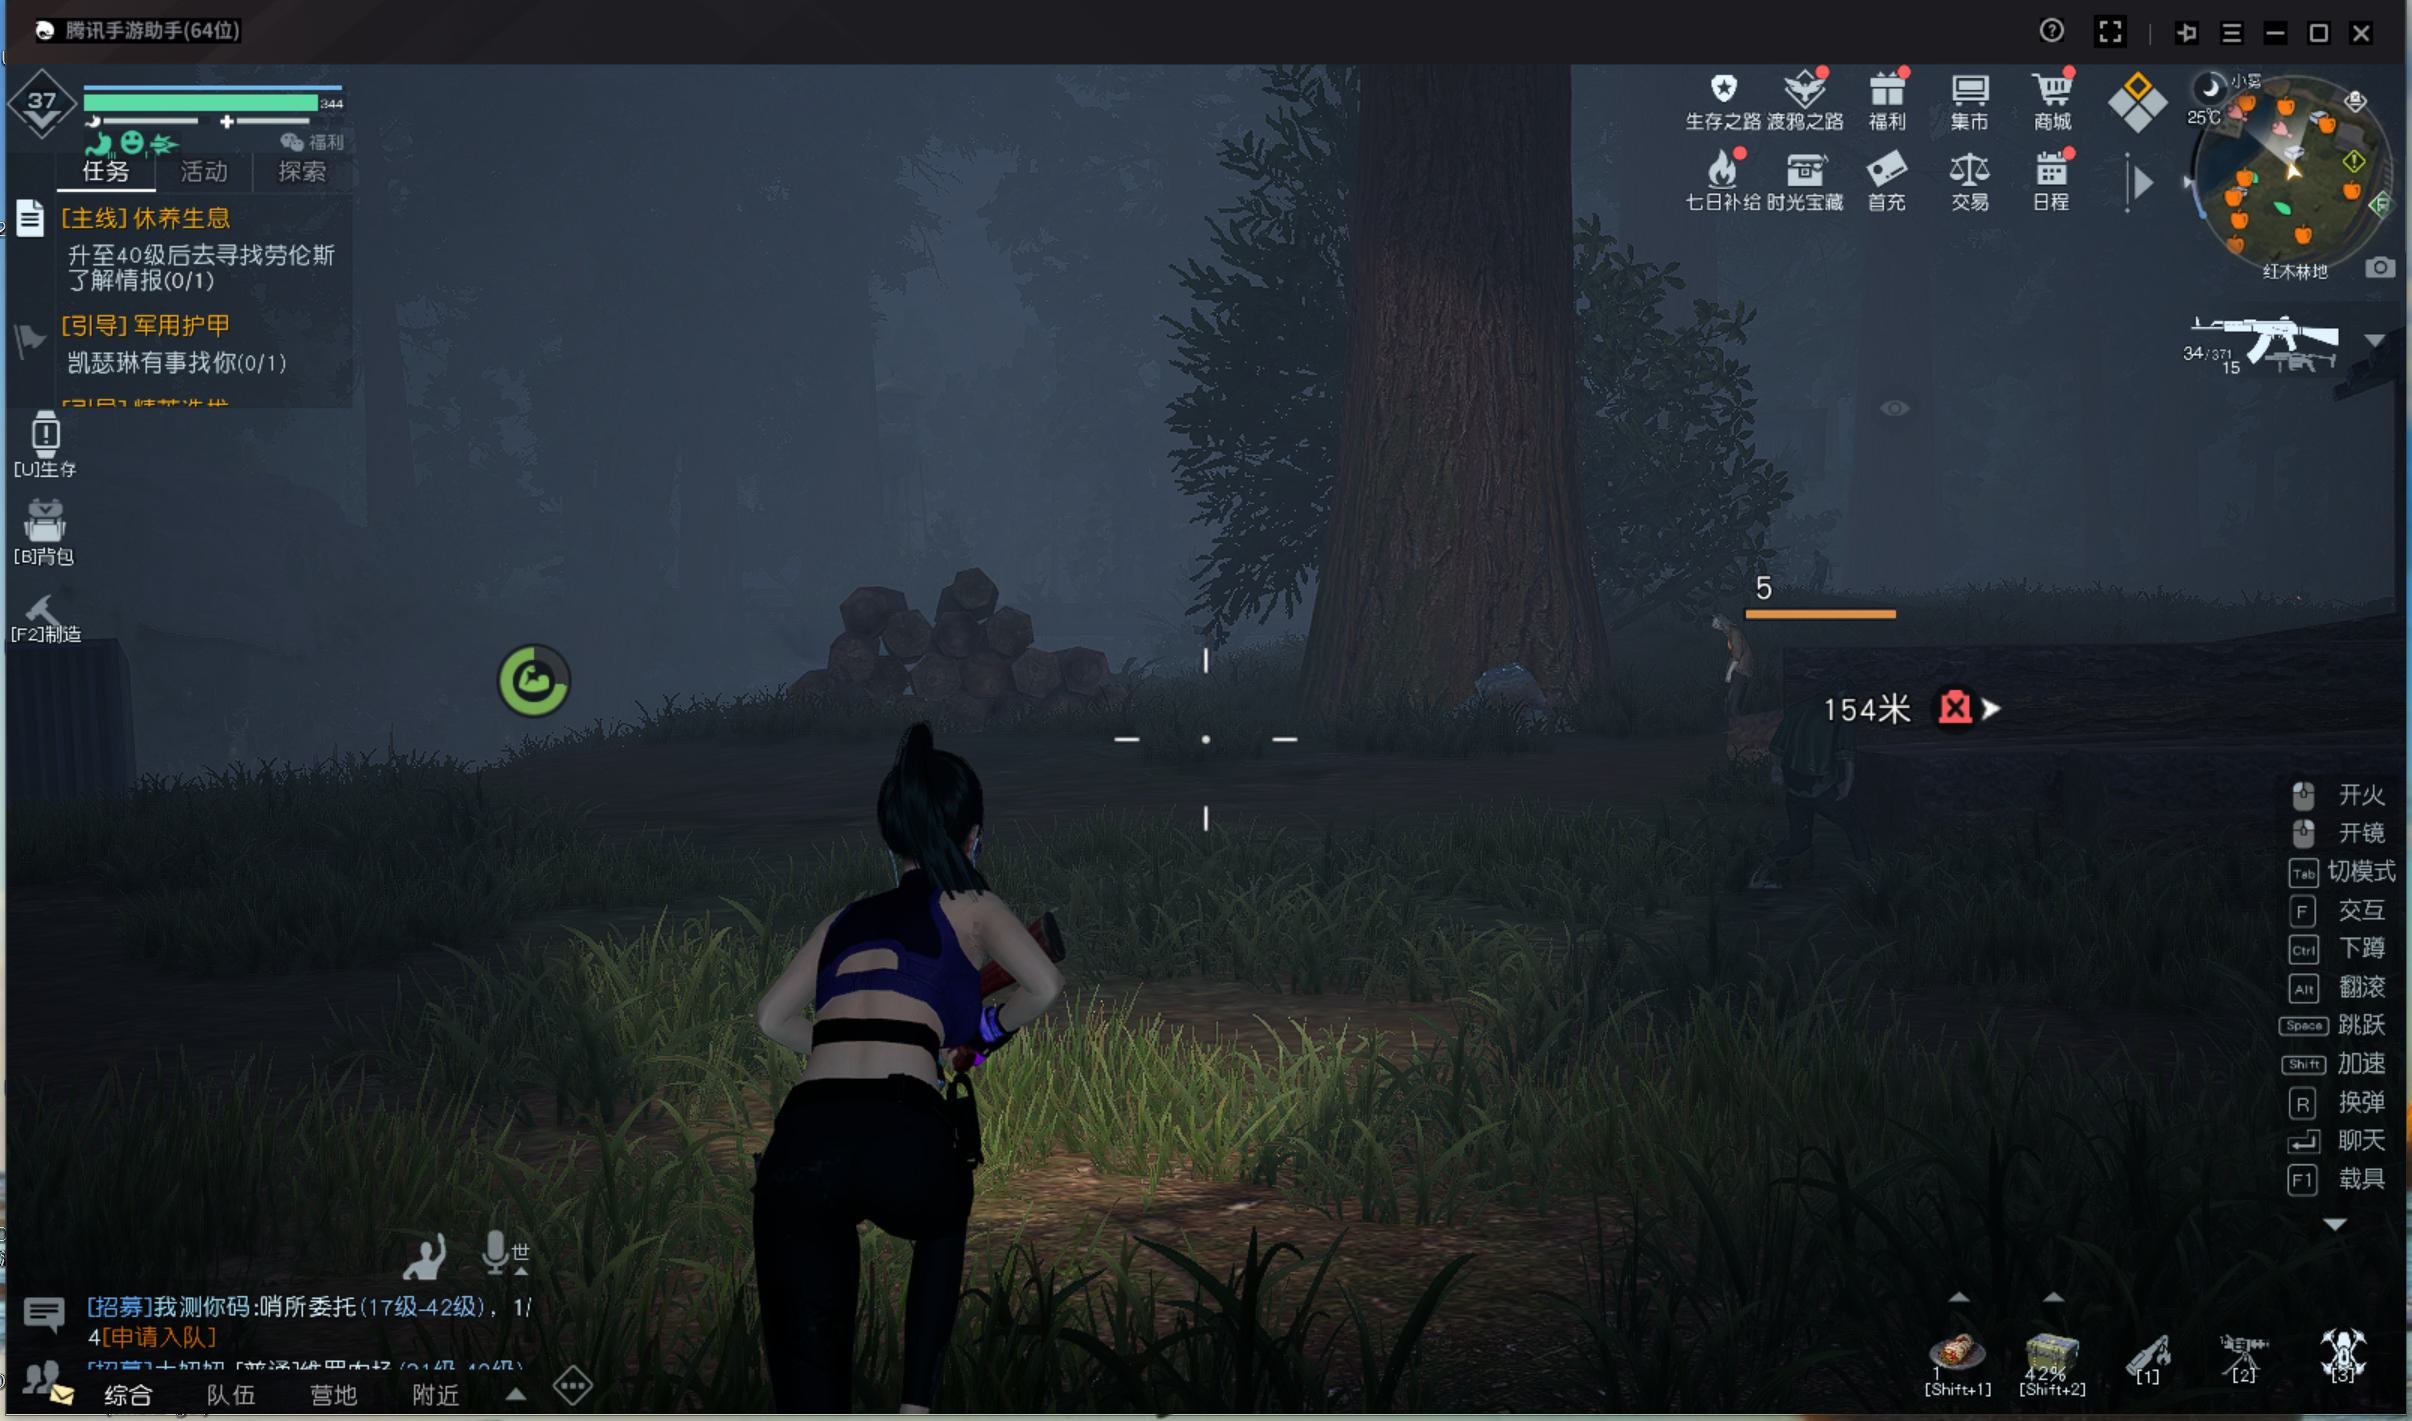stone: (1439, 653, 1580, 760)
tree: (1302, 78, 1607, 645)
